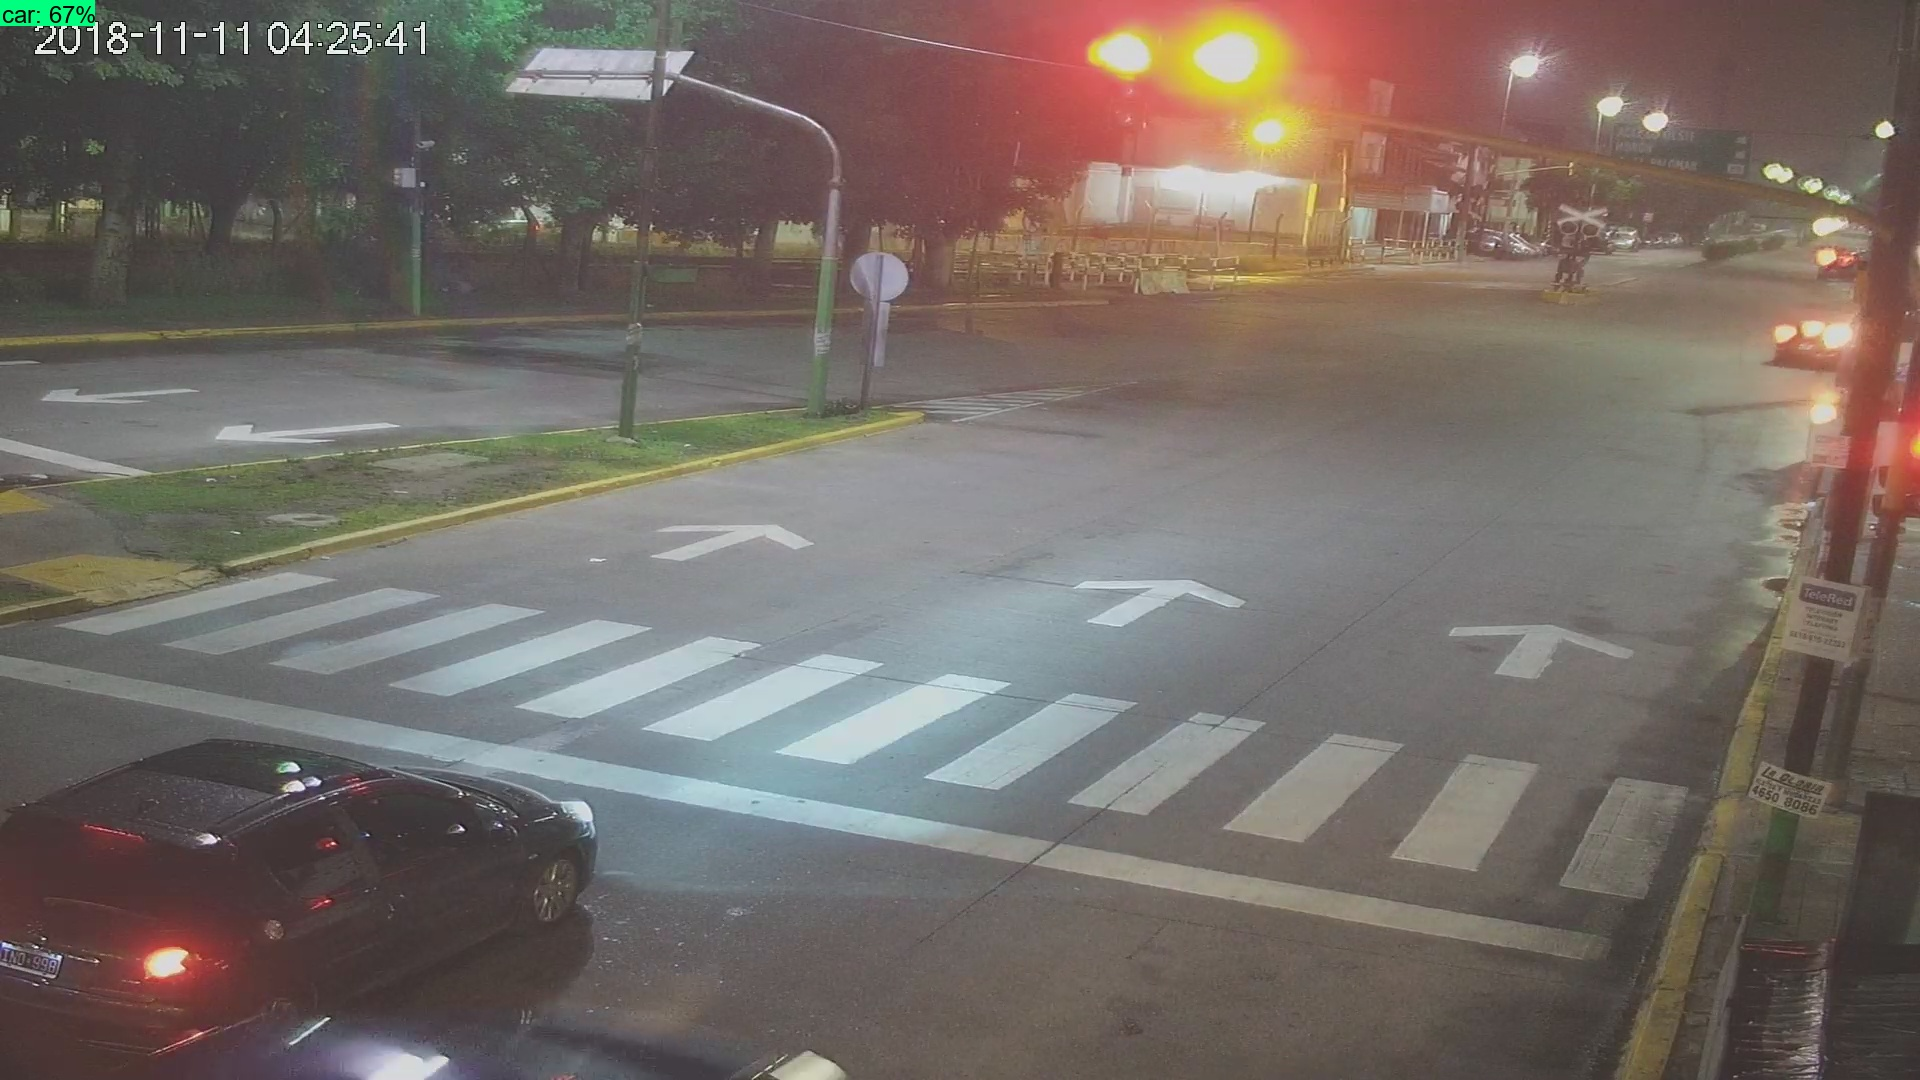car: (5, 737, 603, 1038)
